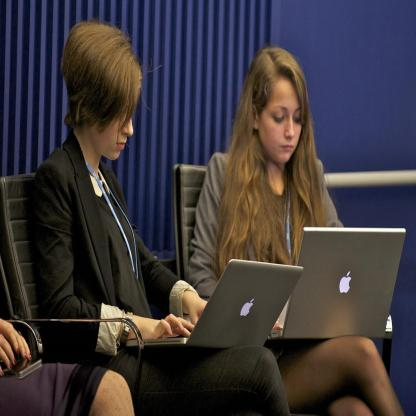board: (273, 228, 405, 364), (126, 260, 304, 352)
